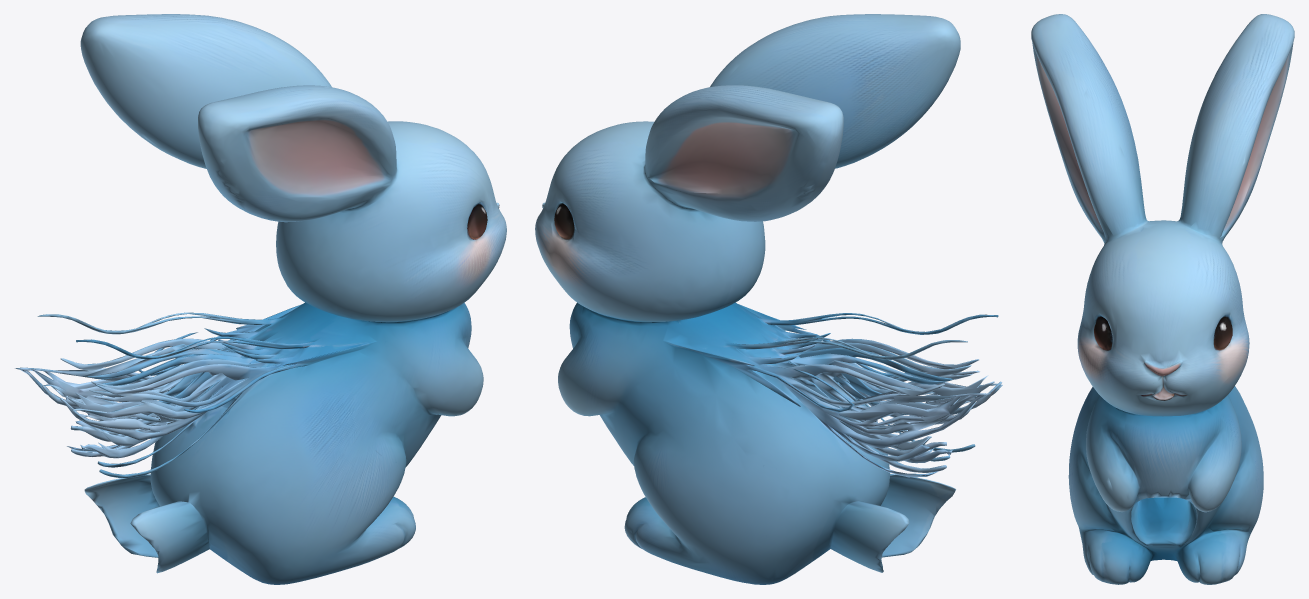
Rendered from changfeng_final.glb.
3 renders of one model, left to right at view 1: azimuth 30°, elevation 25°; view 2: azimuth 150°, elevation 25°; view 3: azimuth 270°, elevation 25°, orthographic. The views are drawn at different scales.
Parts seen in each view (by area): view 1: node_0; view 2: node_0; view 3: node_0.
Part boxes in pixels (bbox=[...]): node_0: bbox=[15, 14, 506, 584]; node_0: bbox=[535, 14, 1002, 584]; node_0: bbox=[1031, 14, 1294, 584].
Bounding box in the file's own units: 0.9511 × 1.02 × 0.5061.
1 material, 1 textured.
